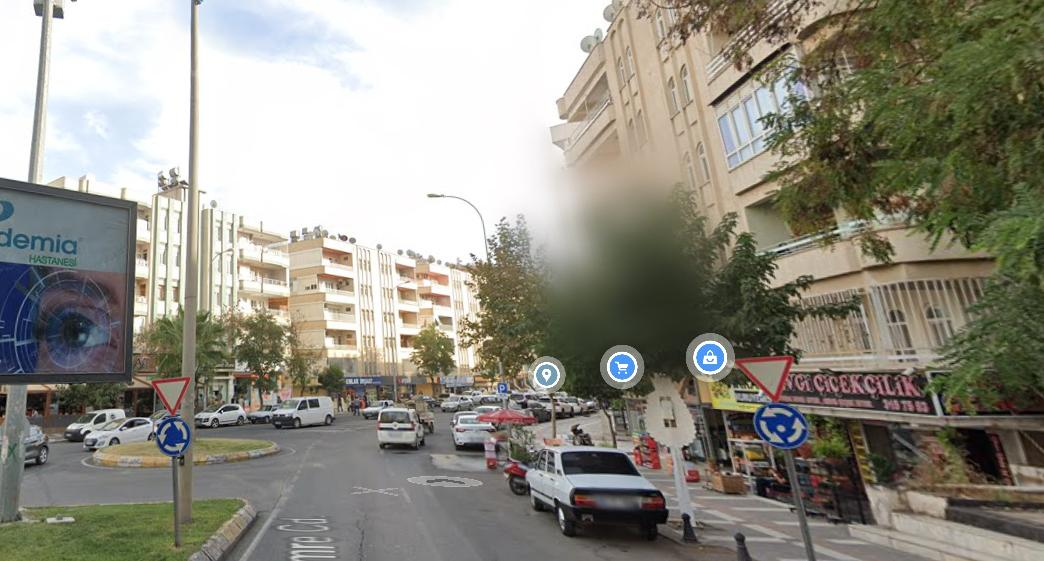crossroads: (755, 405, 806, 444), (157, 417, 192, 455)
